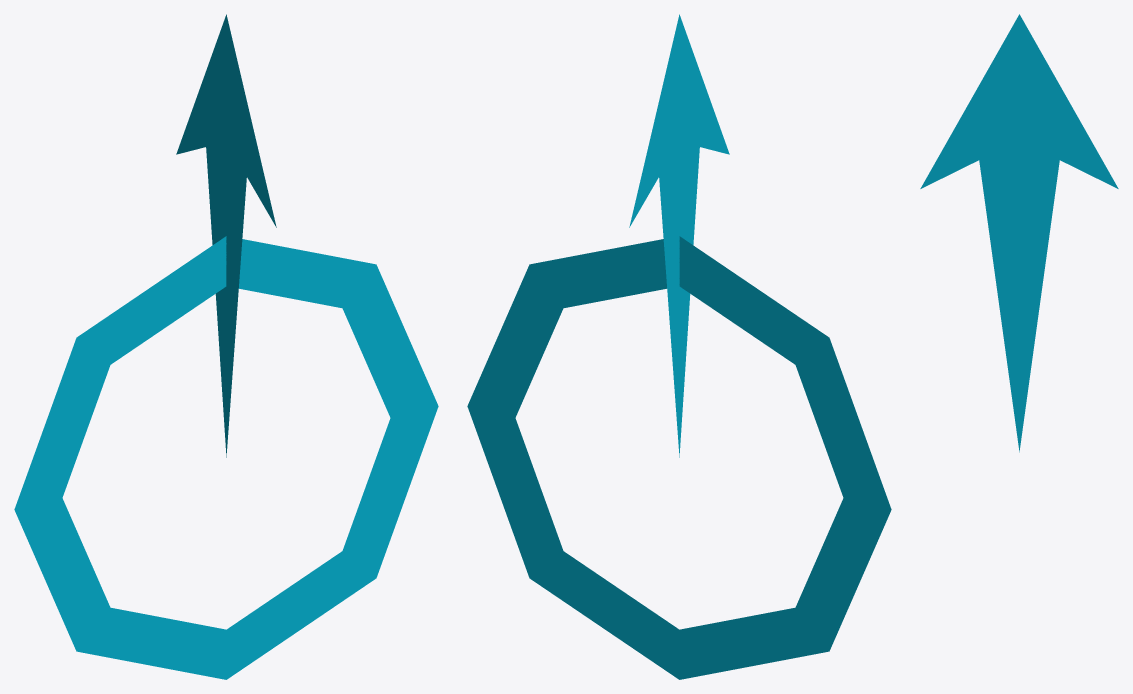
The model's file is facingHelperGizmo.FBX.
The picture shows the model from 3 angles, left to right: view 1: azimuth 30°, elevation 25°; view 2: azimuth 150°, elevation 25°; view 3: azimuth 270°, elevation 25°; orthographic projection.
Visible parts, largest first — view 1: facingHelperGizmo; view 2: facingHelperGizmo; view 3: facingHelperGizmo.
Part boxes in pixels (<box>): facingHelperGizmo: <box>14,14,438,679</box>; facingHelperGizmo: <box>467,14,891,679</box>; facingHelperGizmo: <box>920,14,1118,452</box>.
Bounding box in the file's own units: 14.76 × 6.07 × 22.15.
